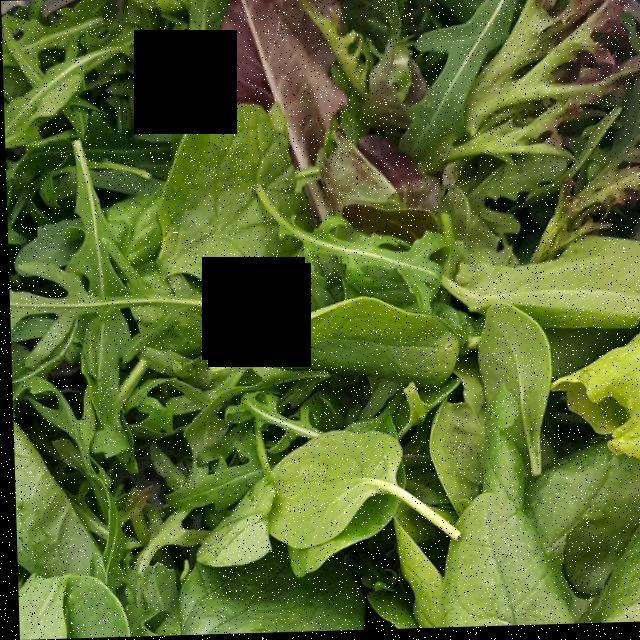salad: (32, 10, 628, 630)
